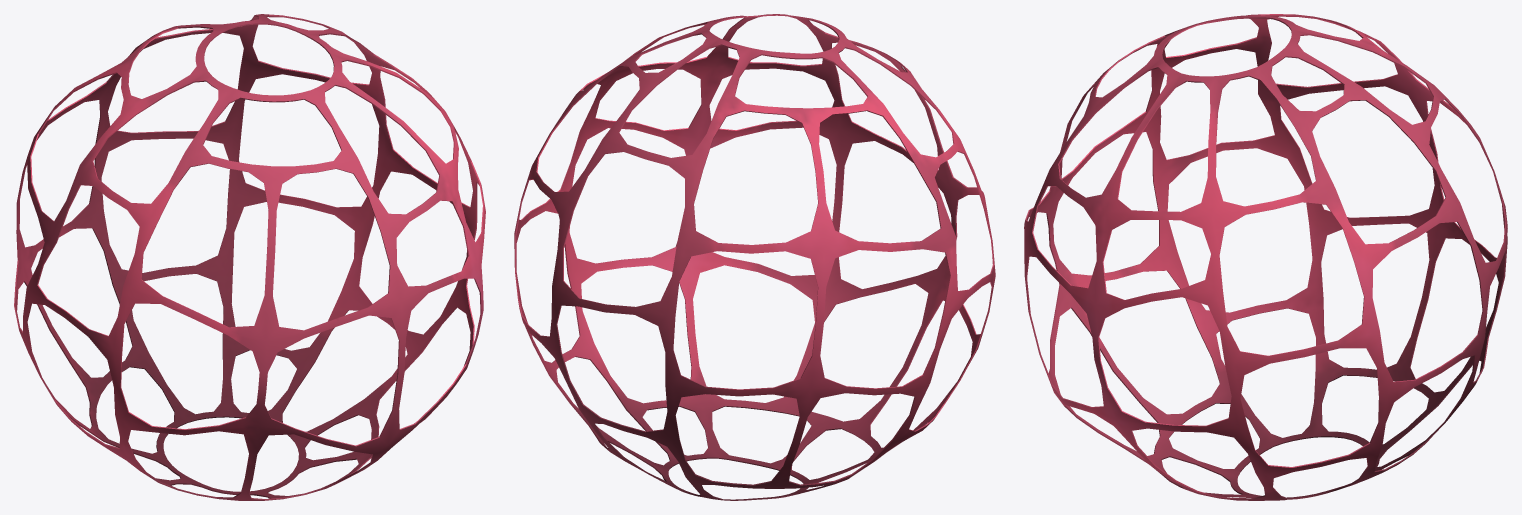
File: Cartoon Seaweed_13-1-36.fbx
3 views of the same model, side by side, from view 1: azimuth 30°, elevation 25°; view 2: azimuth 150°, elevation 25°; view 3: azimuth 270°, elevation 25° (orthographic).
Visible parts, largest first — view 1: Cartoon Seaweed_13.1.36; view 2: Cartoon Seaweed_13.1.36; view 3: Cartoon Seaweed_13.1.36.
Part boxes in pixels (<box>): Cartoon Seaweed_13.1.36: <box>14,14,485,500</box>; Cartoon Seaweed_13.1.36: <box>514,14,995,500</box>; Cartoon Seaweed_13.1.36: <box>1024,14,1507,500</box>.
Bounding box in the file's own units: 11.9 × 12.04 × 11.78.
Materials: 1 (1 with a texture image).
